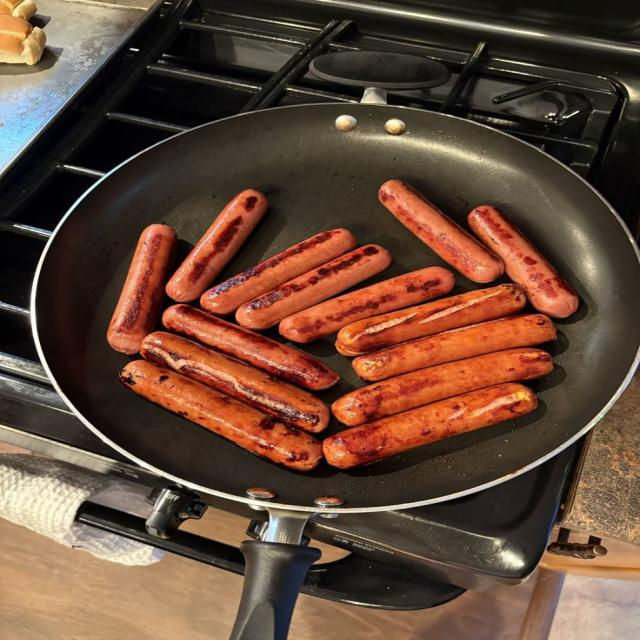sausage: (120, 361, 321, 471), (140, 332, 329, 432), (323, 383, 537, 469), (332, 349, 553, 426), (163, 305, 339, 390), (200, 229, 357, 315), (336, 284, 526, 355), (353, 314, 556, 380), (280, 267, 454, 342), (236, 245, 391, 329), (379, 180, 504, 283), (468, 206, 579, 317), (167, 190, 267, 302), (107, 224, 176, 354)
